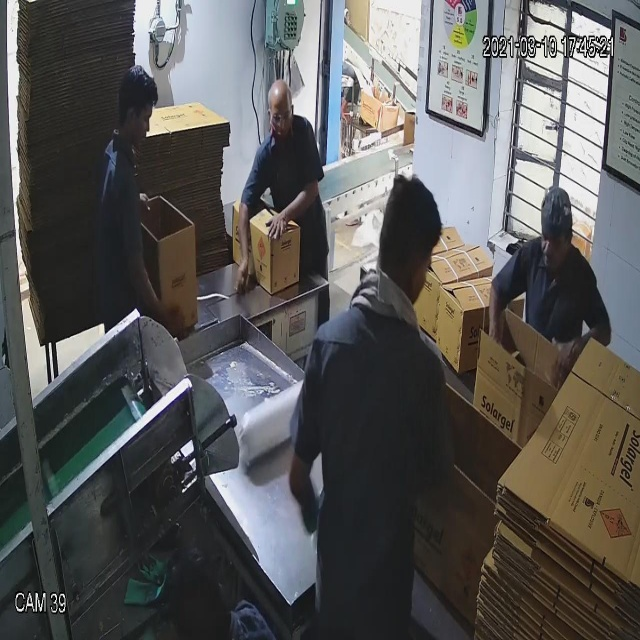Sin_guantes: (119, 228, 188, 348), (545, 316, 616, 385), (264, 180, 322, 249), (229, 194, 260, 305), (482, 266, 510, 388)
